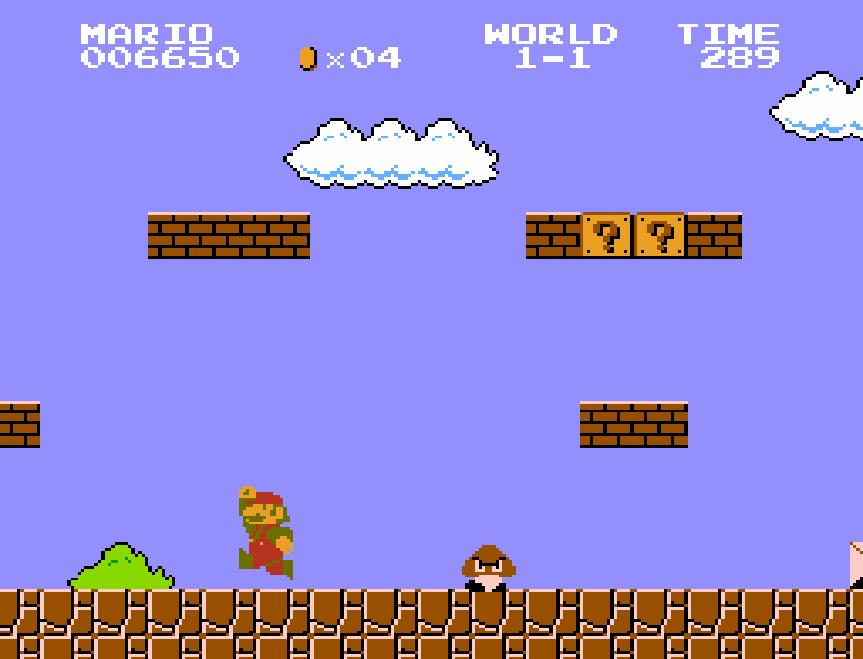big_mario: (236, 484, 294, 582)
